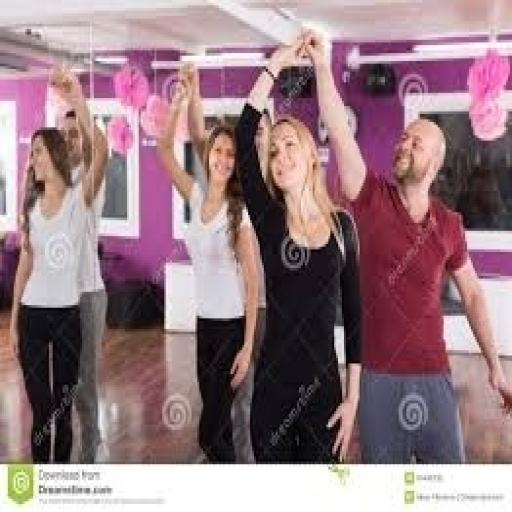dancing: (297, 21, 510, 464), (230, 24, 366, 464), (154, 58, 266, 464), (6, 64, 109, 464)
